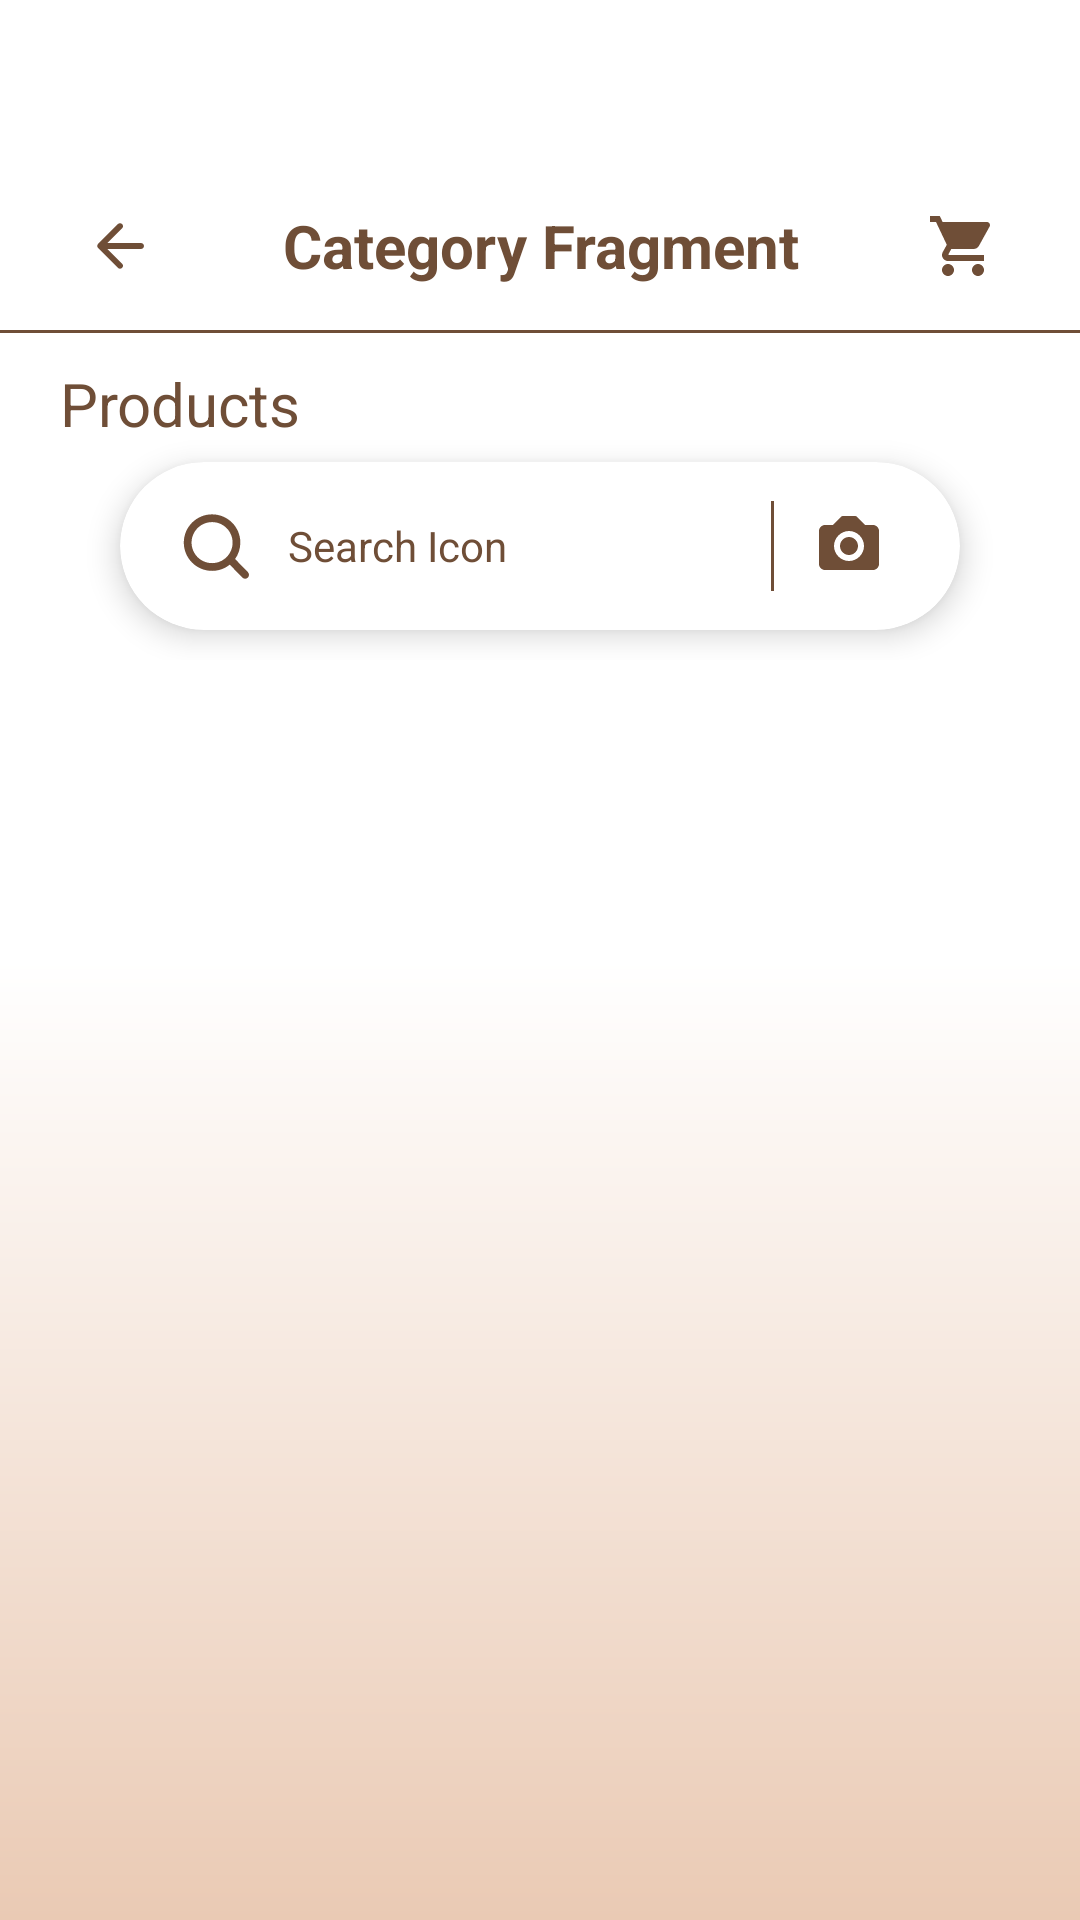

Icon bounding boxes for this 1080 × 1920 phone screenshot, format {"left": x1, "top": y1, "right": x2, "bottom": y2}:
back arrow: {"left": 97, "top": 223, "right": 144, "bottom": 269}
camera: {"left": 819, "top": 516, "right": 879, "bottom": 570}
Cart Icon: {"left": 930, "top": 216, "right": 990, "bottom": 276}
